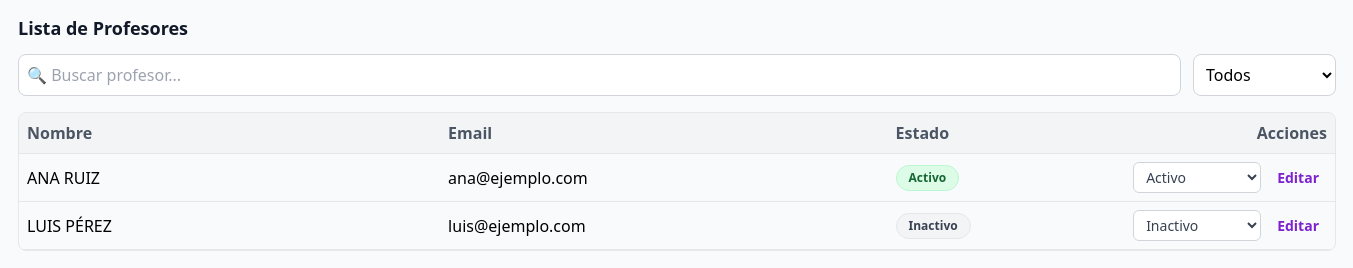
it: ListaProfesores › presenta la tabla y conserva la búsqueda local
The image size is (1353, 268).
Check: the heading "Lista de Profesores" is shown, box [18, 16, 188, 40]
Check: the text "ANA RUIZ" is shown, box [27, 166, 100, 188]
Type "4050" into the field with placeholder "🔍 Buscar profesor..." at (599, 75), box [18, 54, 1181, 96]
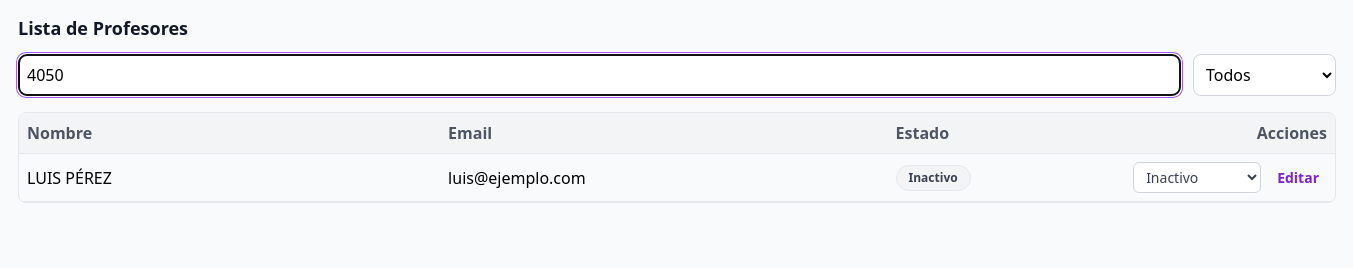
Check: the text "LUIS PÉREZ" is shown, box [27, 166, 112, 188]
Check: the text "ANA RUIZ" is gone
